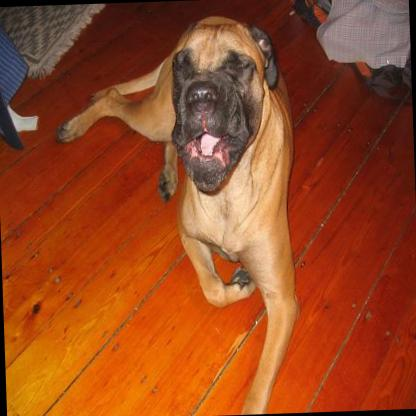bull_mastiff: (48, 13, 300, 416)
